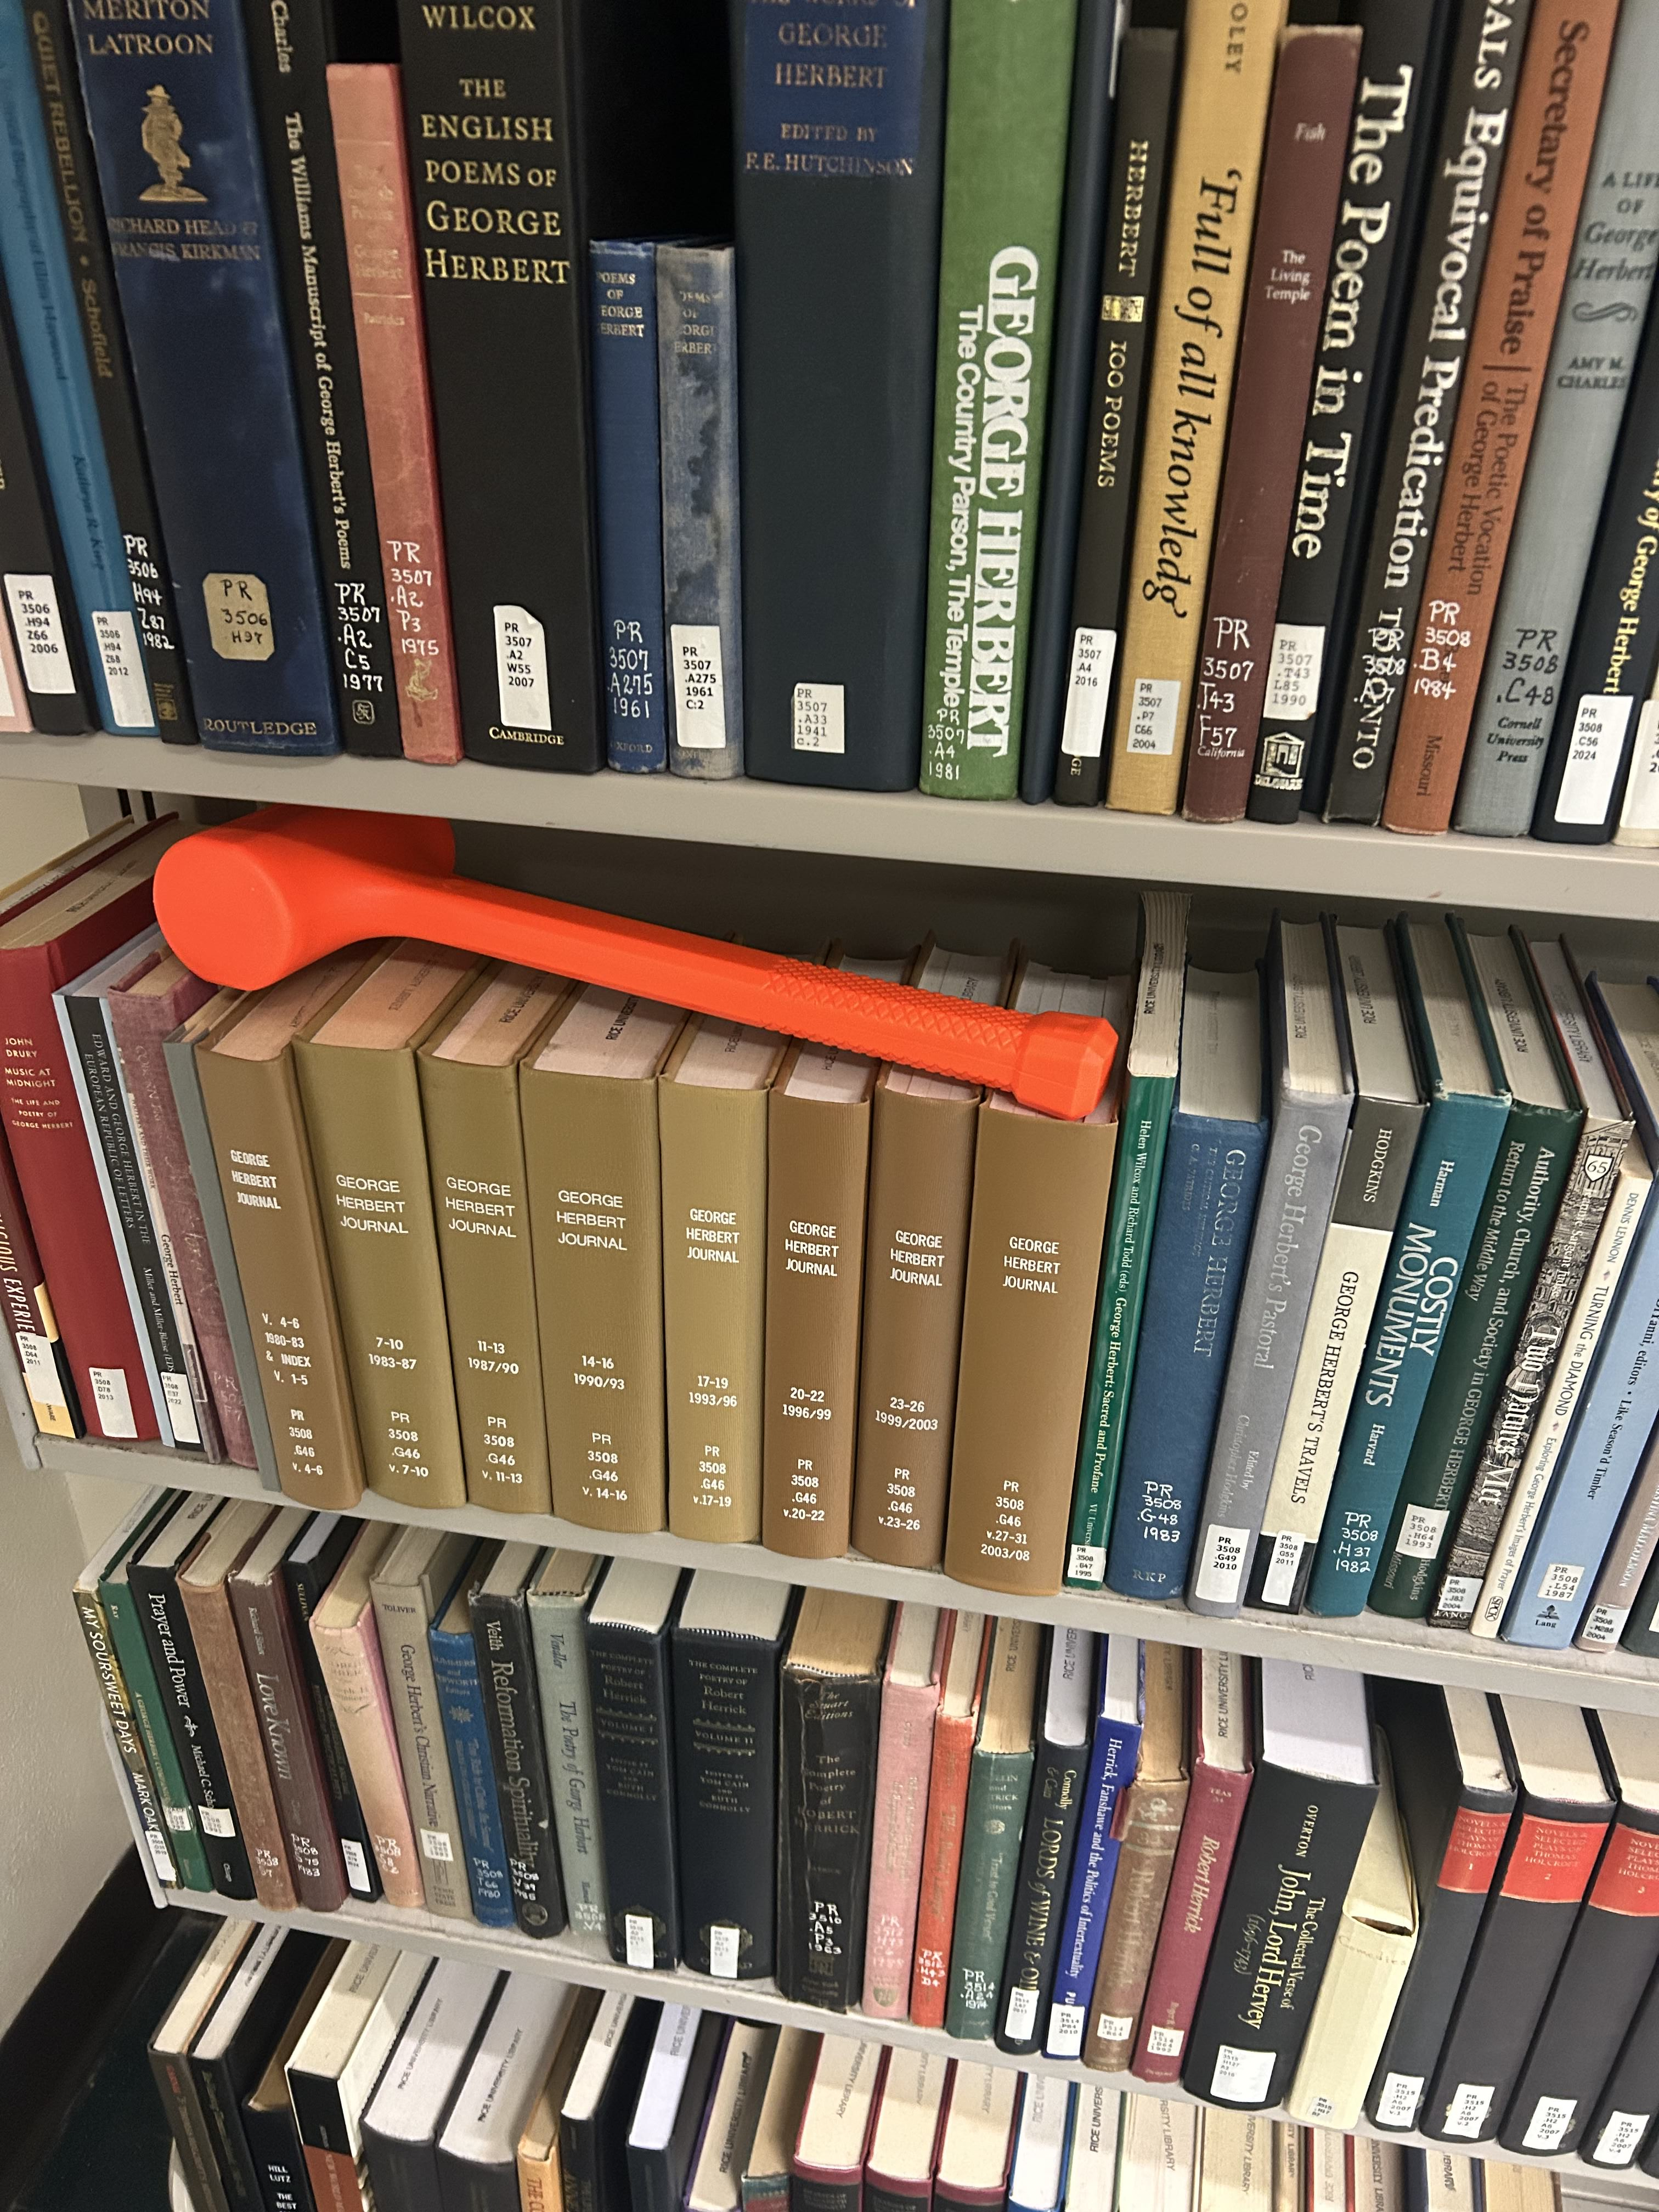Hammer: (92, 711, 1227, 1177)
